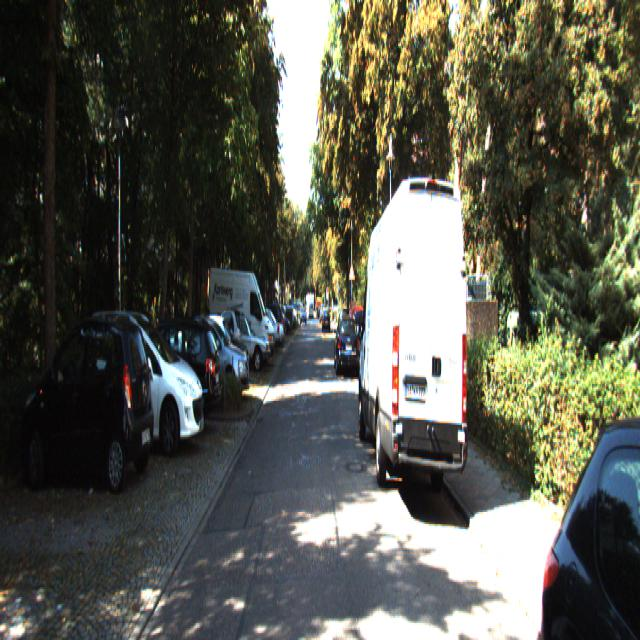Car: (358, 167, 471, 509), (539, 381, 639, 638), (18, 309, 156, 495), (77, 298, 205, 456), (110, 307, 222, 432), (208, 261, 276, 370), (171, 312, 250, 404), (214, 312, 270, 374), (336, 312, 360, 376)
